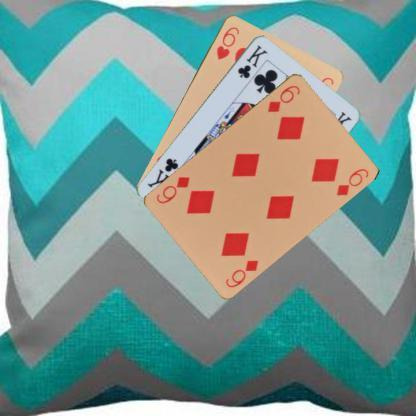6d: (223, 256, 260, 290), (265, 82, 302, 113)
6h: (213, 24, 240, 61)
Kc: (234, 42, 270, 80)
